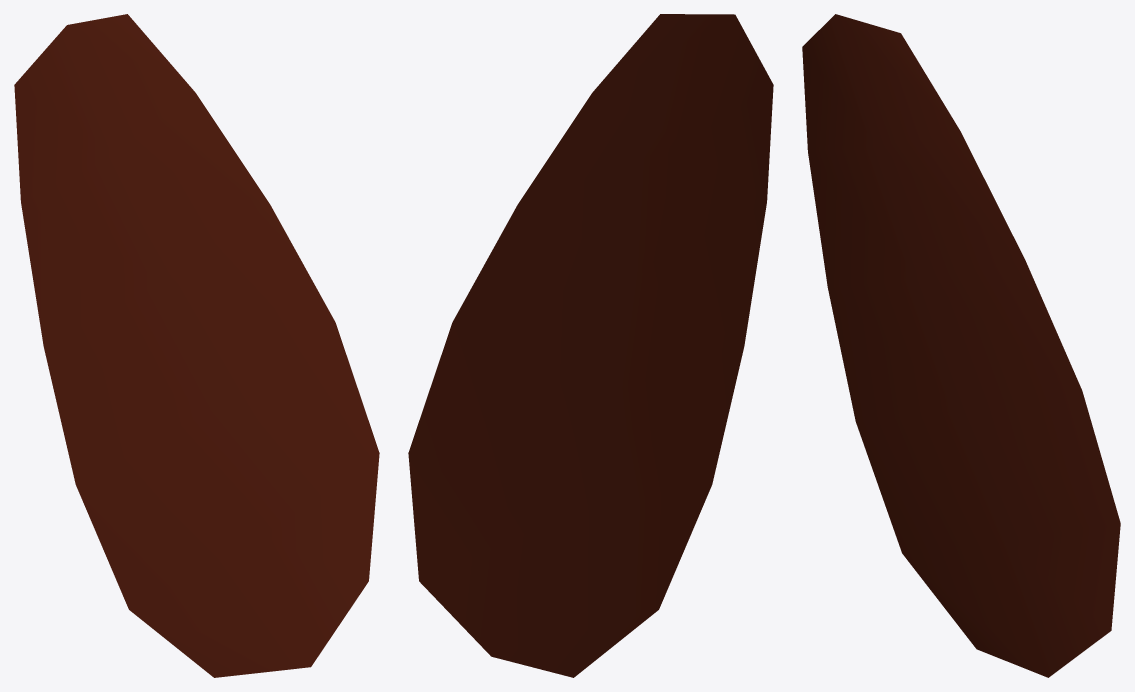
The model's file is finch_feather_flight_tertiary_019.obj.
3 views of the same model, side by side, from view 1: azimuth 30°, elevation 25°; view 2: azimuth 150°, elevation 25°; view 3: azimuth 330°, elevation 25° (orthographic). The views are drawn at different scales.
Parts seen in each view (by area): view 1: feather_flight_tertiary_019; view 2: feather_flight_tertiary_019; view 3: feather_flight_tertiary_019.
Boxes of the visible parts, x1,y1,x2,y2 form: feather_flight_tertiary_019: (14,14,379,677); feather_flight_tertiary_019: (408,14,773,677); feather_flight_tertiary_019: (802,14,1120,677).
Size of the model in its own units: 0.00446 by 0.00819 by 0.000152.
